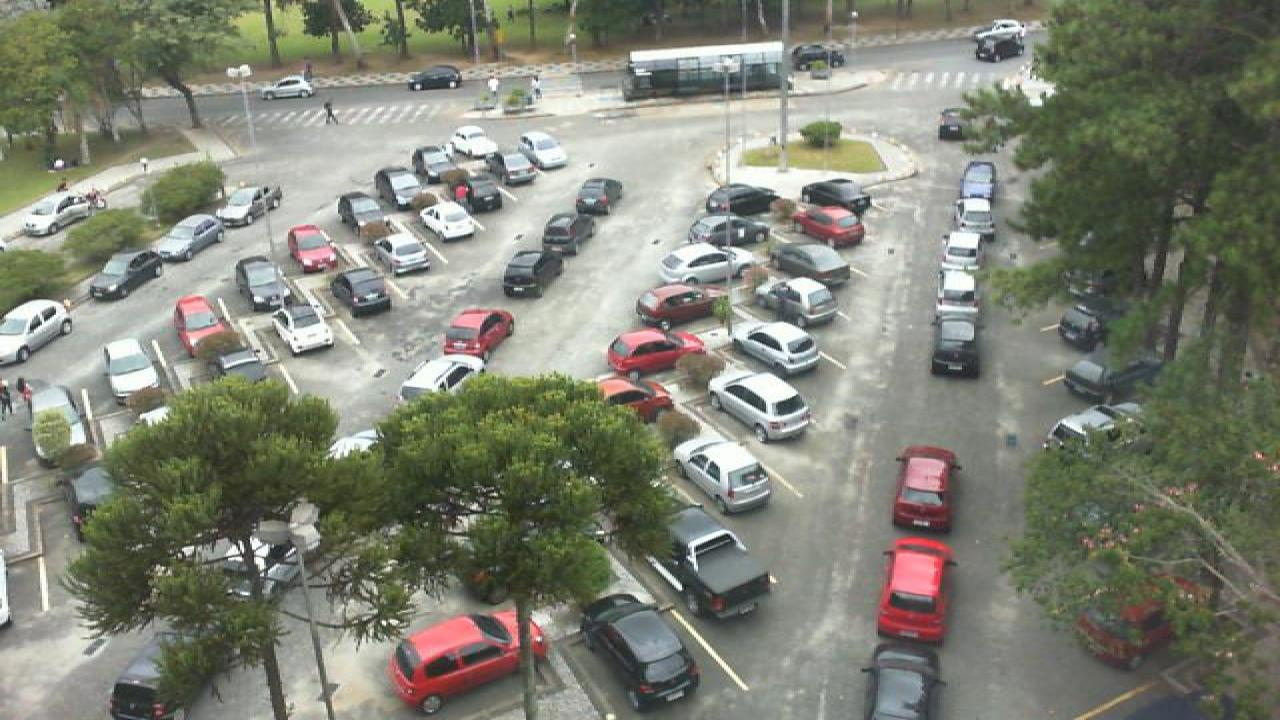Car: (386, 611, 544, 715), (582, 593, 704, 712), (650, 507, 776, 621), (876, 536, 960, 642), (670, 438, 776, 515), (706, 372, 816, 444), (860, 641, 946, 720), (888, 444, 962, 531), (732, 318, 826, 378), (108, 650, 184, 720), (606, 326, 708, 378), (0, 298, 76, 367), (1044, 402, 1144, 454), (392, 356, 488, 408), (750, 276, 844, 328), (1060, 353, 1152, 406), (68, 463, 122, 544), (84, 250, 168, 302), (766, 242, 856, 289), (440, 306, 516, 361), (658, 243, 756, 285), (592, 378, 680, 424), (152, 214, 230, 264), (102, 337, 162, 400), (270, 304, 338, 359), (20, 191, 96, 240), (636, 284, 726, 325), (172, 294, 234, 352), (928, 318, 986, 378), (790, 204, 868, 248), (500, 250, 564, 300), (330, 269, 394, 318), (234, 256, 292, 310), (212, 184, 282, 228), (286, 224, 340, 277), (800, 177, 874, 215), (538, 210, 596, 258), (418, 200, 482, 243), (704, 181, 780, 217), (372, 233, 432, 278), (692, 215, 772, 247), (568, 176, 624, 220), (1056, 303, 1106, 352), (514, 128, 572, 170), (488, 148, 544, 187), (212, 347, 274, 382), (446, 170, 500, 210), (336, 192, 384, 236), (374, 168, 418, 212), (934, 286, 980, 328), (450, 124, 502, 161), (788, 40, 848, 72), (970, 29, 1024, 63), (938, 252, 982, 291), (952, 197, 996, 234), (260, 73, 318, 100), (958, 160, 998, 199), (412, 144, 454, 181), (940, 230, 988, 262), (408, 64, 464, 91), (968, 18, 1026, 38), (936, 106, 970, 140)
